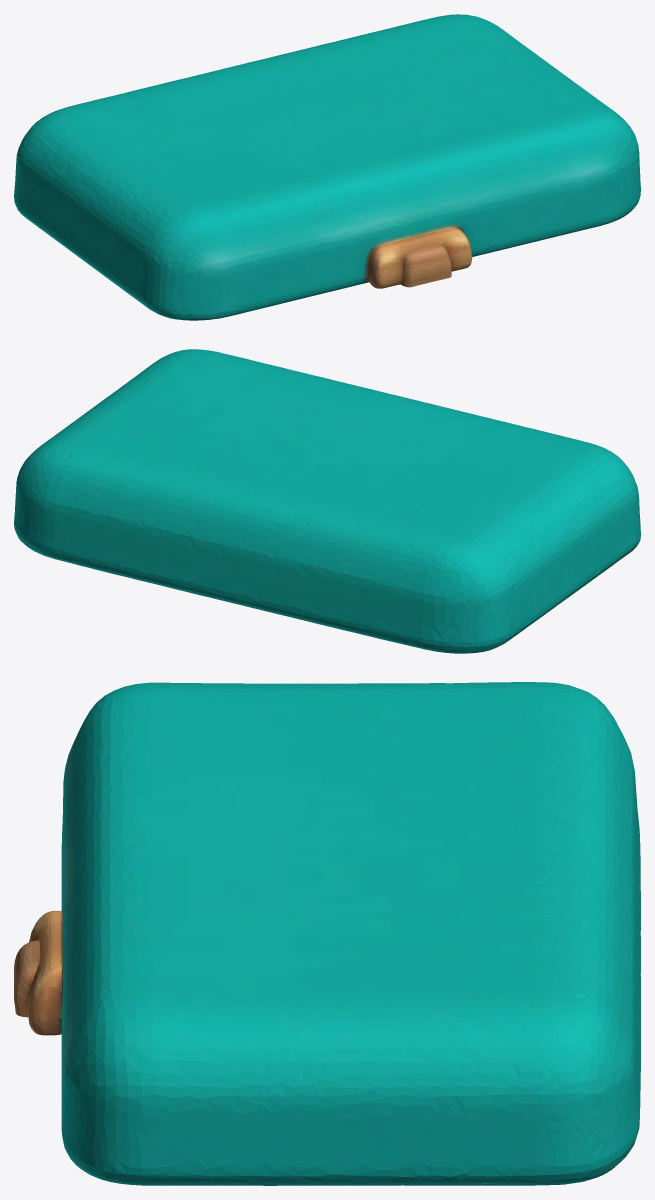
Rendered from lid.glb.
The picture shows the model from 3 angles, top to bottom: view 1: azimuth 30°, elevation 25°; view 2: azimuth 150°, elevation 25°; view 3: azimuth 270°, elevation 25°; orthographic projection. The views are drawn at different scales.
Parts seen in each view (by area): view 1: source_surface_0; view 2: source_surface_0; view 3: source_surface_0.
Boxes of the visible parts, box(x1,y1,x2,y2) form: source_surface_0: box(14, 14, 640, 320); source_surface_0: box(14, 349, 640, 653); source_surface_0: box(14, 682, 640, 1185).
Size of the model in its own units: 0.18 by 0.0333 by 0.1233.
Materials: 1 (1 with a texture image).
